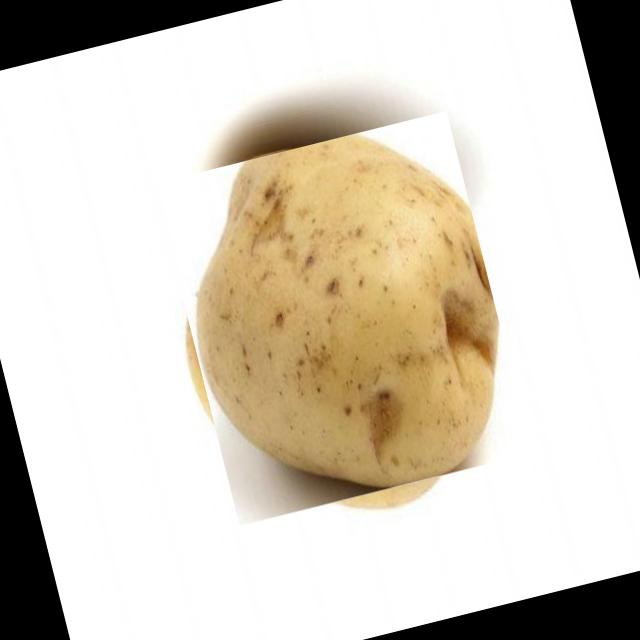potato: (154, 110, 532, 526)
